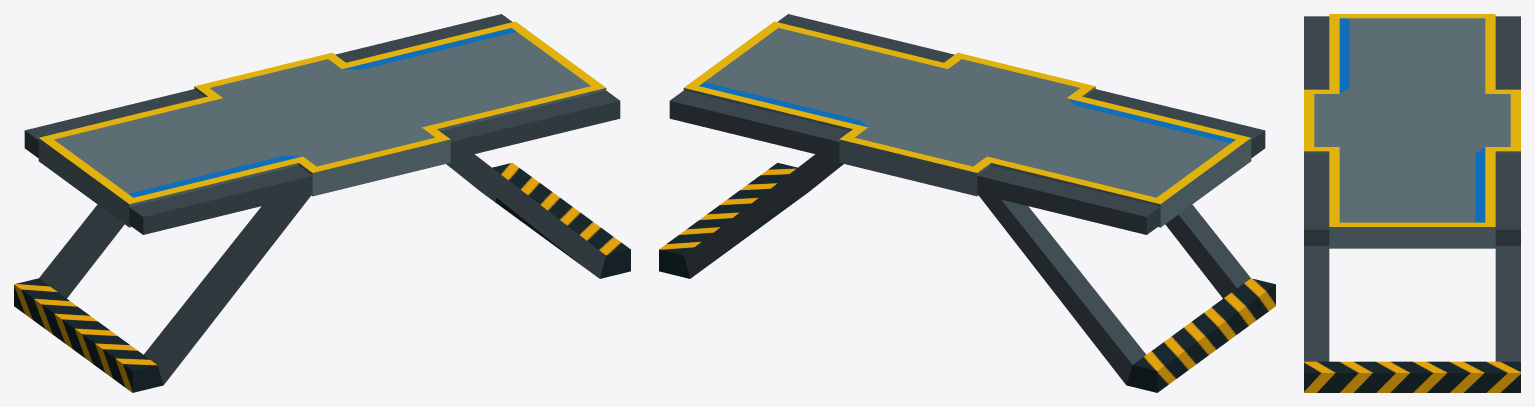
File: Desk_004.glb
3 views of the same model, side by side, from view 1: azimuth 30°, elevation 25°; view 2: azimuth 150°, elevation 25°; view 3: azimuth 270°, elevation 25° (orthographic). The views are drawn at different scales.
Parts seen in each view (by area): view 1: Desk_004; view 2: Desk_004; view 3: Desk_004.
Part boxes in pixels (x1,y1,x2,y2): Desk_004: (14, 14, 630, 392); Desk_004: (659, 14, 1275, 392); Desk_004: (1304, 14, 1520, 392).
Bounding box in the file's own units: 2.55 × 0.8617 × 1.05.
2 materials, 2 textured.
